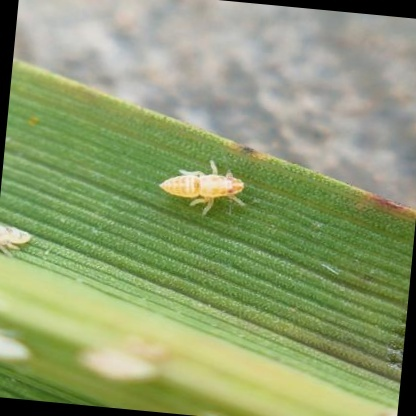Brown_hopper: (122, 147, 258, 232)
